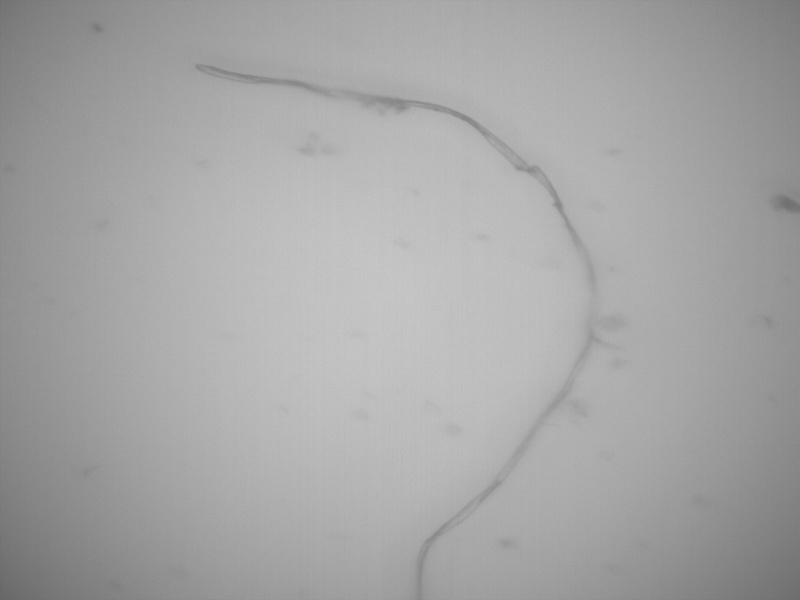fiber: (191, 60, 626, 600)
